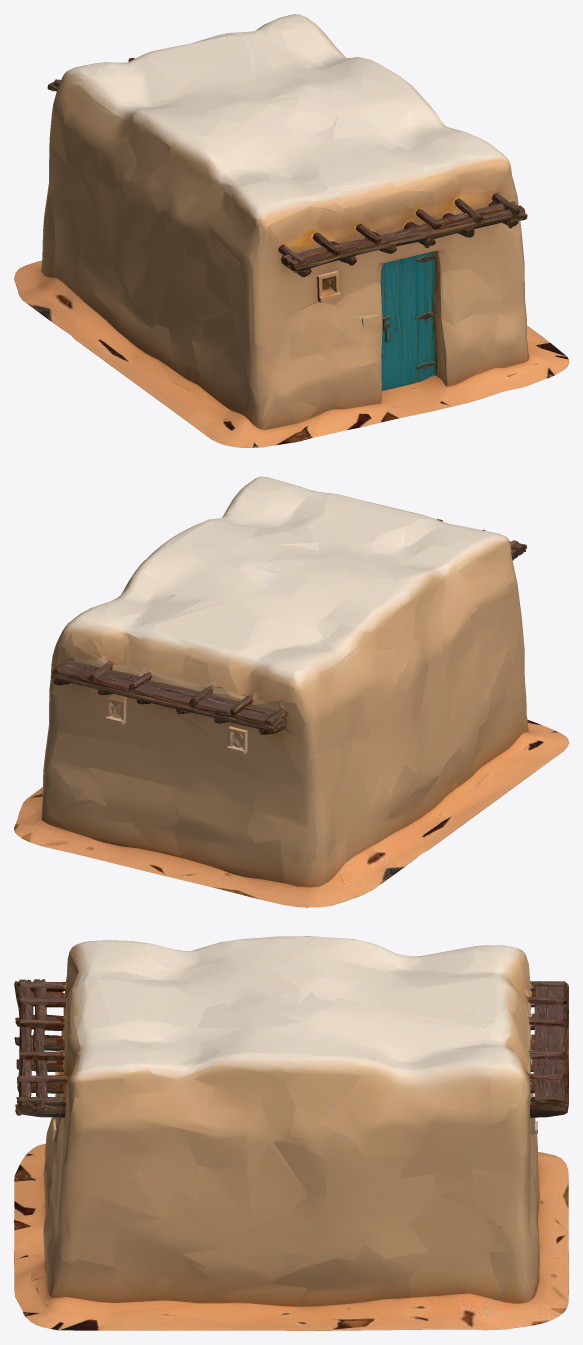
Rendered from adobe.glb.
The picture shows the model from 3 angles, top to bottom: view 1: azimuth 30°, elevation 25°; view 2: azimuth 150°, elevation 25°; view 3: azimuth 270°, elevation 25°; orthographic projection. The views are drawn at different scales.
Size of the model in its own units: 1.54 by 0.9255 by 1.9.
Materials: 1 (1 with a texture image).
